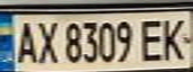0: (97, 18, 118, 64)
3: (78, 18, 100, 65)
8: (60, 19, 81, 64)
9: (115, 17, 139, 64)
A: (9, 18, 39, 65)
E: (136, 16, 166, 62)
K: (157, 15, 190, 61)
X: (33, 17, 60, 65)
